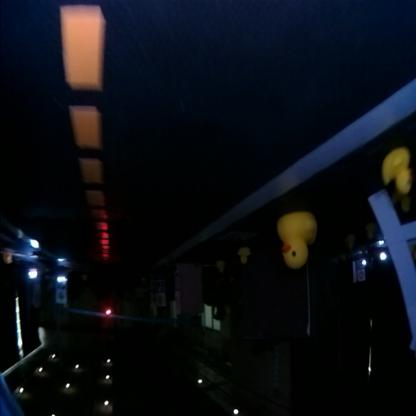Duckie: (278, 216, 317, 268), (383, 151, 413, 194), (240, 249, 250, 262), (218, 264, 223, 271)
Traffic light: (105, 310, 111, 318)
